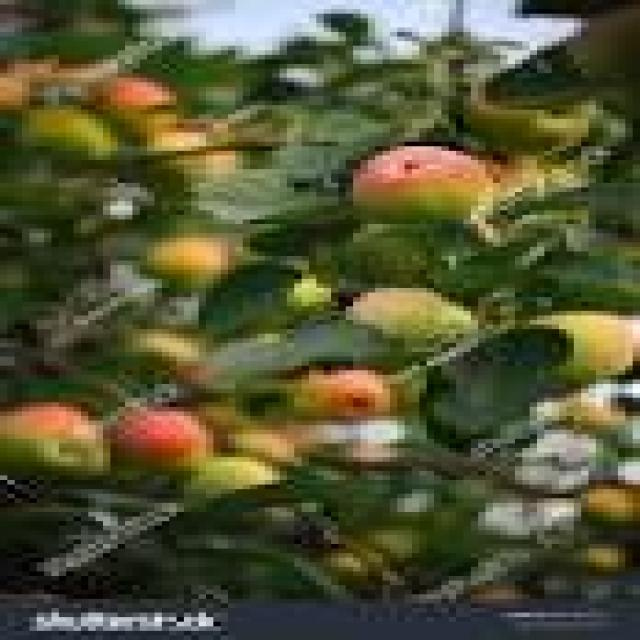apple: (354, 147, 500, 223), (464, 92, 595, 155), (0, 403, 110, 475), (346, 288, 478, 347), (530, 311, 632, 383), (111, 407, 213, 470), (295, 371, 397, 420), (23, 106, 117, 159), (148, 234, 235, 287), (184, 453, 279, 498), (96, 74, 176, 114), (582, 485, 639, 525)
